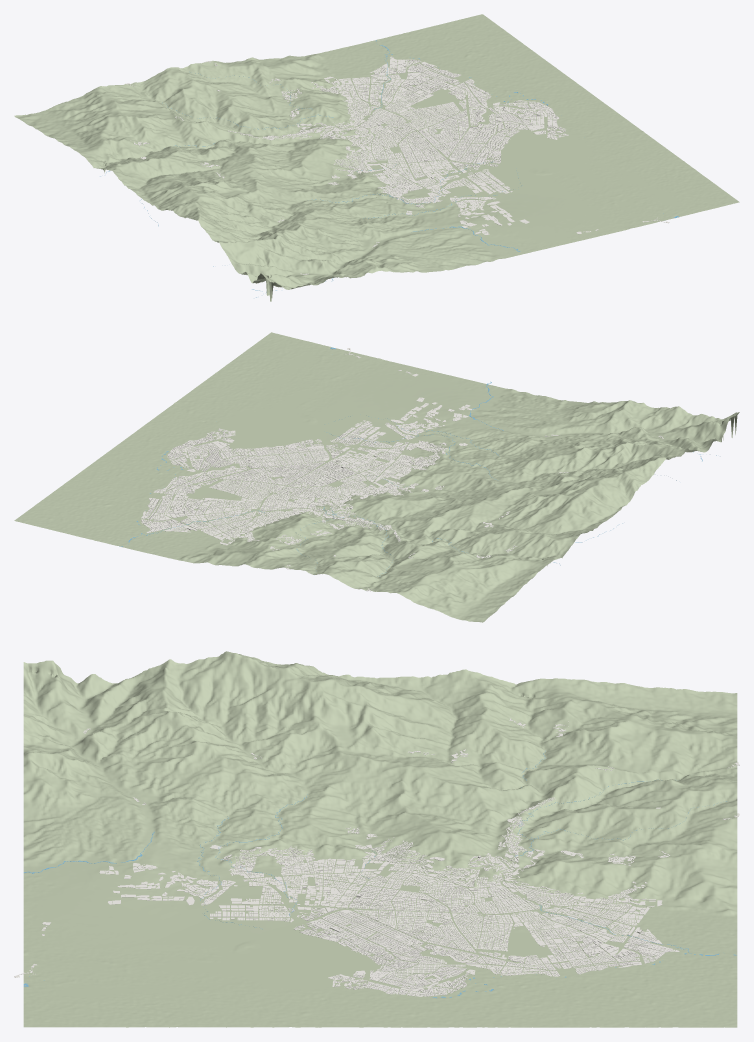
Rendered from cali.glb.
3 renders of one model, top to bottom at view 1: azimuth 30°, elevation 25°; view 2: azimuth 150°, elevation 25°; view 3: azimuth 270°, elevation 25°, orthographic. The views are drawn at different scales.
Parts seen in each view (by area): view 1: Terreno, Manzanas, Rios; view 2: Terreno, Manzanas, Rios; view 3: Terreno, Manzanas, Rios.
Part boxes in pixels (left/top/right/bottom): Terreno: left=14, top=14, right=739, bottom=301; Manzanas: left=125, top=56, right=669, bottom=274; Rios: left=100, top=40, right=678, bottom=297; Terreno: left=14, top=332, right=739, bottom=622; Manzanas: left=141, top=348, right=663, bottom=591; Rios: left=119, top=347, right=716, bottom=576; Terreno: left=23, top=651, right=737, bottom=1027; Manzanas: left=14, top=718, right=739, bottom=996; Rios: left=23, top=751, right=736, bottom=998.
Size of the model in its own units: 24420 by 2193 by 23625.
